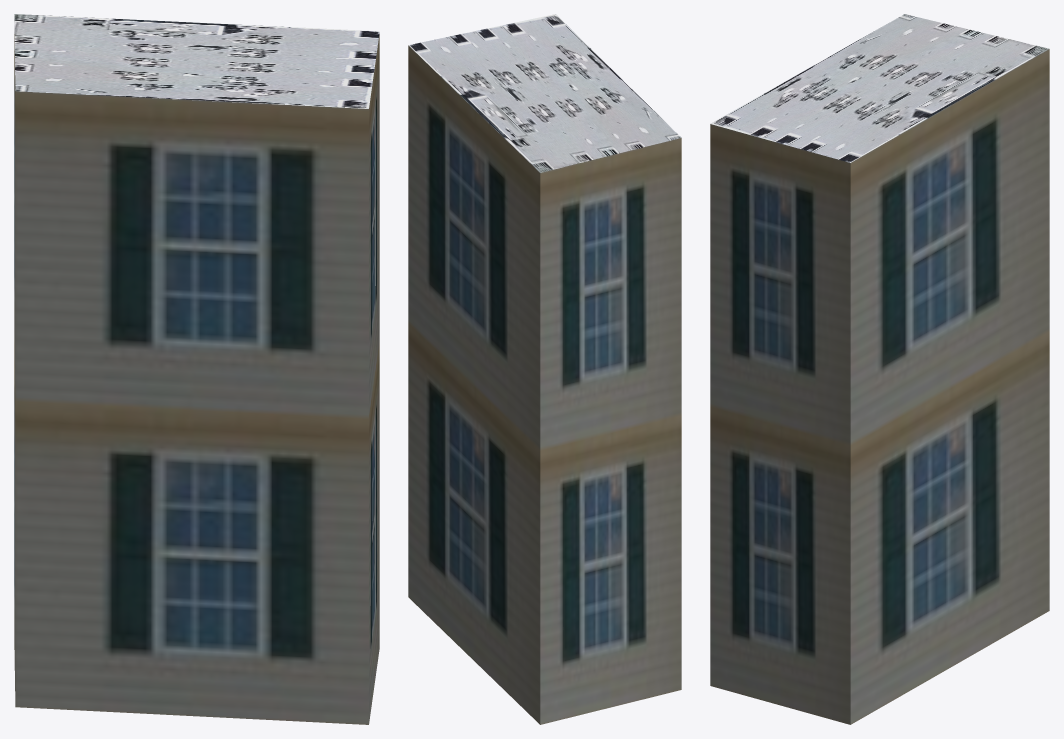
Rendered from ResTex__3789.fbx.
3 views of the same model, side by side, from view 1: azimuth 30°, elevation 25°; view 2: azimuth 150°, elevation 25°; view 3: azimuth 270°, elevation 25° (orthographic). The views are drawn at different scales.
Visible parts, largest first — view 1: CityEngineMaterial_7_m, CityEngineMaterial_8_m; view 2: CityEngineMaterial_7_m, CityEngineMaterial_8_m; view 3: CityEngineMaterial_7_m, CityEngineMaterial_8_m.
Part boxes in pixels (box(x1,y1,x2,y2)): CityEngineMaterial_7_m: box(14, 34, 379, 724); CityEngineMaterial_8_m: box(14, 14, 379, 108); CityEngineMaterial_7_m: box(408, 45, 681, 724); CityEngineMaterial_8_m: box(408, 14, 681, 172); CityEngineMaterial_7_m: box(710, 49, 1049, 724); CityEngineMaterial_8_m: box(710, 14, 1049, 162).
Bounding box in the file's own units: 3.41 × 6 × 3.29.
Materials: 2 (2 with a texture image).
